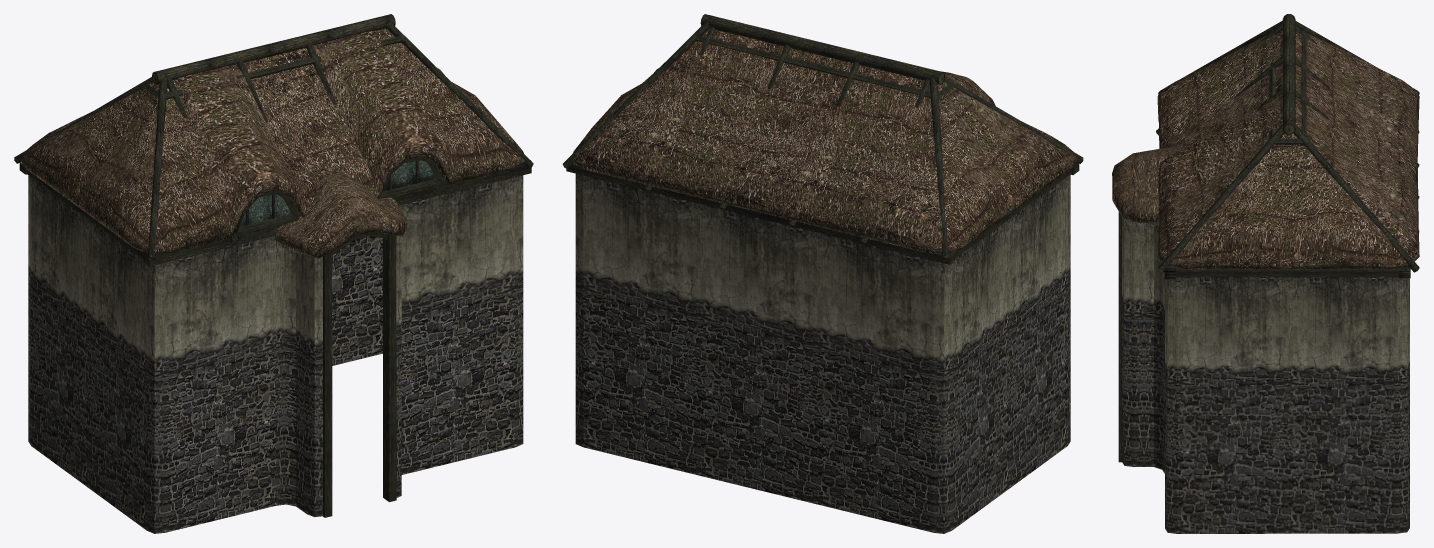
Rendered from ex_nord_house_04.obj.
3 views of the same model, side by side, from view 1: azimuth 30°, elevation 25°; view 2: azimuth 150°, elevation 25°; view 3: azimuth 270°, elevation 25° (orthographic). The views are drawn at different scales.
Parts seen in each view (by area): view 1: nifid_40-matrix_Tri_Ex_nord_house_04_9-lib, nifid_32-matrix_Tri_Ex_nord_house_04_7-lib, nifid_28-matrix_Tri_Ex_nord_house_04_6-lib, nifid_1-matrix_Tri_Ex_nord_house_04_0-lib, nifid_6-matrix_Tri_Ex_nord_house_04_1-lib, nifid_19-matrix_Tri_Ex_nord_house_04_4-lib, nifid_11-matrix_Tri_Ex_nord_house_04_2-lib, nifid_52-matrix_Tri_Ex_nord_house_04_12-lib, nifid_44-matrix_Tri_Ex_nord_house_04_10-lib, nifid_48-matrix_Tri_Ex_nord_house_04_11-lib, nifid_24-matrix_Tri_Ex_nord_house_04_5-lib; view 2: nifid_32-matrix_Tri_Ex_nord_house_04_7-lib, nifid_40-matrix_Tri_Ex_nord_house_04_9-lib, nifid_28-matrix_Tri_Ex_nord_house_04_6-lib, nifid_1-matrix_Tri_Ex_nord_house_04_0-lib, nifid_6-matrix_Tri_Ex_nord_house_04_1-lib, nifid_52-matrix_Tri_Ex_nord_house_04_12-lib, nifid_11-matrix_Tri_Ex_nord_house_04_2-lib, nifid_48-matrix_Tri_Ex_nord_house_04_11-lib; view 3: nifid_40-matrix_Tri_Ex_nord_house_04_9-lib, nifid_32-matrix_Tri_Ex_nord_house_04_7-lib, nifid_28-matrix_Tri_Ex_nord_house_04_6-lib, nifid_1-matrix_Tri_Ex_nord_house_04_0-lib, nifid_11-matrix_Tri_Ex_nord_house_04_2-lib, nifid_19-matrix_Tri_Ex_nord_house_04_4-lib, nifid_48-matrix_Tri_Ex_nord_house_04_11-lib, nifid_44-matrix_Tri_Ex_nord_house_04_10-lib, nifid_6-matrix_Tri_Ex_nord_house_04_1-lib, nifid_52-matrix_Tri_Ex_nord_house_04_12-lib.
Part boxes in pixels (x1,y1,x2,y2): nifid_40-matrix_Tri_Ex_nord_house_04_9-lib: (20,28,524,258); nifid_32-matrix_Tri_Ex_nord_house_04_7-lib: (31,236,515,532); nifid_28-matrix_Tri_Ex_nord_house_04_6-lib: (31,177,515,376); nifid_1-matrix_Tri_Ex_nord_house_04_0-lib: (14,14,533,517); nifid_6-matrix_Tri_Ex_nord_house_04_1-lib: (147,288,523,533); nifid_19-matrix_Tri_Ex_nord_house_04_4-lib: (276,348,306,513); nifid_11-matrix_Tri_Ex_nord_house_04_2-lib: (28,286,314,533); nifid_52-matrix_Tri_Ex_nord_house_04_12-lib: (147,175,523,377); nifid_44-matrix_Tri_Ex_nord_house_04_10-lib: (276,241,306,357); nifid_48-matrix_Tri_Ex_nord_house_04_11-lib: (28,175,314,377); nifid_24-matrix_Tri_Ex_nord_house_04_5-lib: (240,160,435,226); nifid_32-matrix_Tri_Ex_nord_house_04_7-lib: (583,289,1067,532); nifid_40-matrix_Tri_Ex_nord_house_04_9-lib: (572,29,1077,253); nifid_28-matrix_Tri_Ex_nord_house_04_6-lib: (583,175,1067,376); nifid_1-matrix_Tri_Ex_nord_house_04_0-lib: (563,14,1083,264); nifid_6-matrix_Tri_Ex_nord_house_04_1-lib: (575,285,1070,533); nifid_52-matrix_Tri_Ex_nord_house_04_12-lib: (575,173,1070,377); nifid_11-matrix_Tri_Ex_nord_house_04_2-lib: (944,374,951,533); nifid_48-matrix_Tri_Ex_nord_house_04_11-lib: (944,263,951,377); nifid_40-matrix_Tri_Ex_nord_house_04_9-lib: (1112,30,1419,269); nifid_32-matrix_Tri_Ex_nord_house_04_7-lib: (1177,385,1397,533); nifid_28-matrix_Tri_Ex_nord_house_04_6-lib: (1177,277,1397,385); nifid_1-matrix_Tri_Ex_nord_house_04_0-lib: (1118,14,1419,462); nifid_11-matrix_Tri_Ex_nord_house_04_2-lib: (1124,318,1407,533); nifid_19-matrix_Tri_Ex_nord_house_04_4-lib: (1134,319,1164,473); nifid_48-matrix_Tri_Ex_nord_house_04_11-lib: (1124,220,1407,385); nifid_44-matrix_Tri_Ex_nord_house_04_10-lib: (1134,222,1164,325); nifid_6-matrix_Tri_Ex_nord_house_04_1-lib: (1122,314,1409,531); nifid_52-matrix_Tri_Ex_nord_house_04_12-lib: (1122,217,1409,383).
Size of the model in its own units: 16.99 by 16.63 by 12.25.
